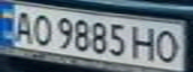5: (106, 20, 130, 58)
8: (69, 17, 93, 53), (87, 19, 109, 55)
9: (51, 15, 75, 49)
A: (6, 8, 36, 44)
H: (127, 25, 160, 61)
O: (151, 28, 184, 64), (27, 11, 54, 46)
